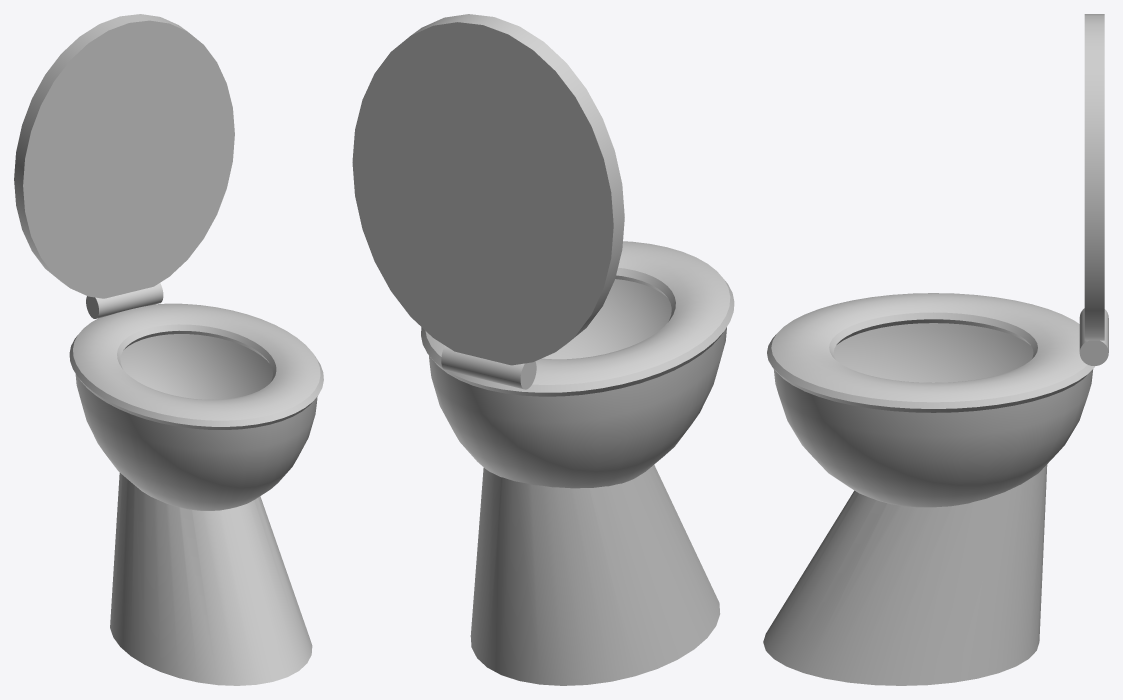
The model's file is Toilat.fbx.
The picture shows the model from 3 angles, left to right: view 1: azimuth 30°, elevation 25°; view 2: azimuth 150°, elevation 25°; view 3: azimuth 270°, elevation 25°; orthographic projection. The views are drawn at different scales.
Visible parts, largest first — view 1: Toilet; view 2: Toilet; view 3: Toilet.
Part boxes in pixels (left/top/right/bottom): Toilet: left=14, top=14, right=323, bottom=685; Toilet: left=352, top=14, right=734, bottom=685; Toilet: left=763, top=14, right=1108, bottom=685.
Size of the model in its own units: 264 by 658 by 334.
